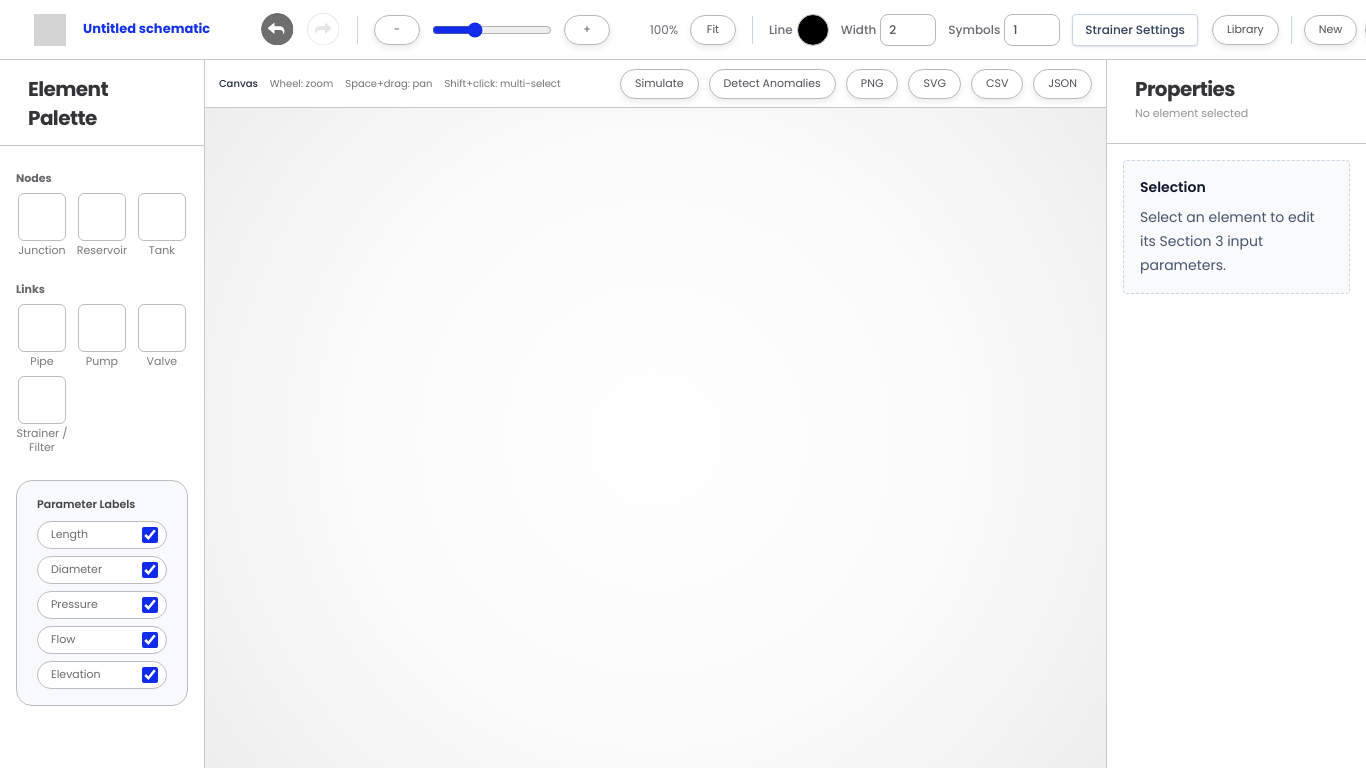
Scenario: BuilderPage › shows navigation guard when starting new with dirty state
This screenshot has width=1366, height=768.
Replace the text in the field named "schematic name" with "Renamed schematic" at (150, 30), box [78, 19, 223, 40]
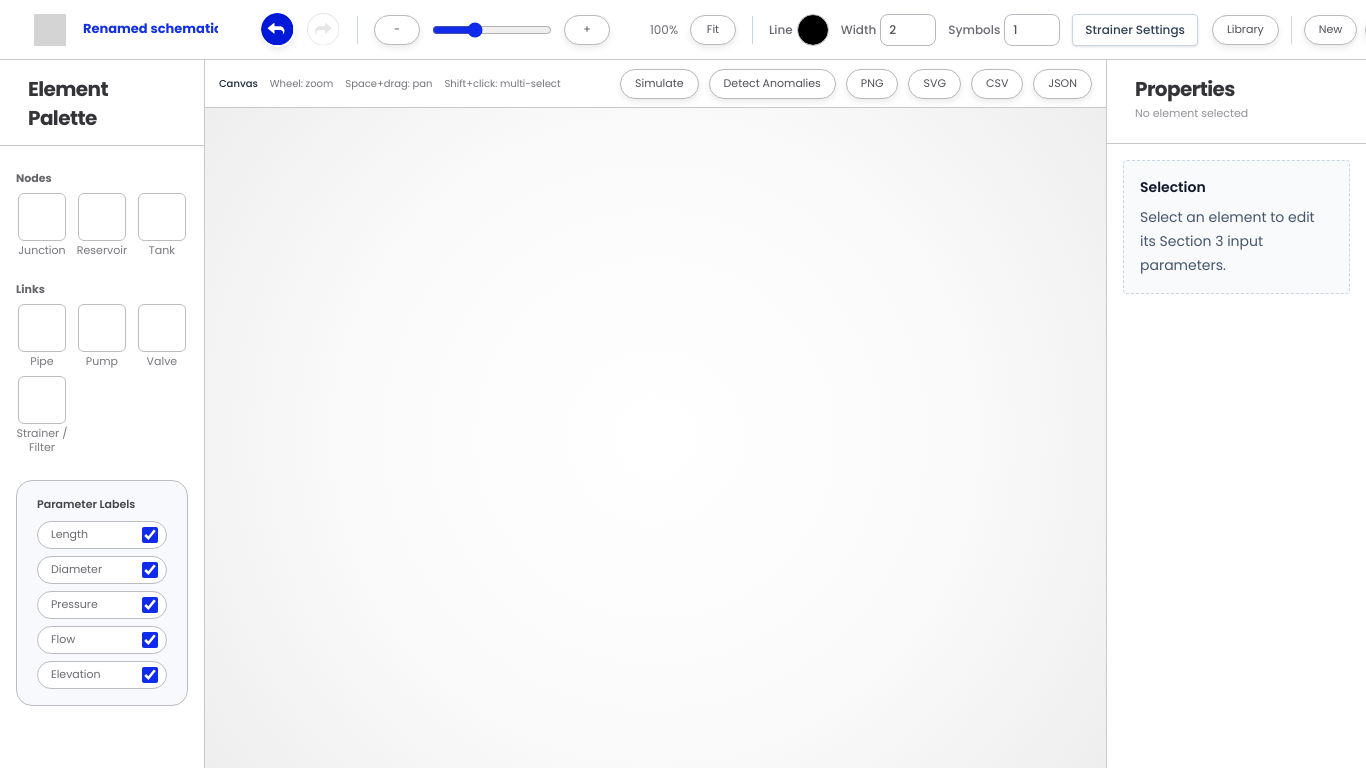
Click the button "New" at (1330, 30), box [1304, 14, 1357, 44]
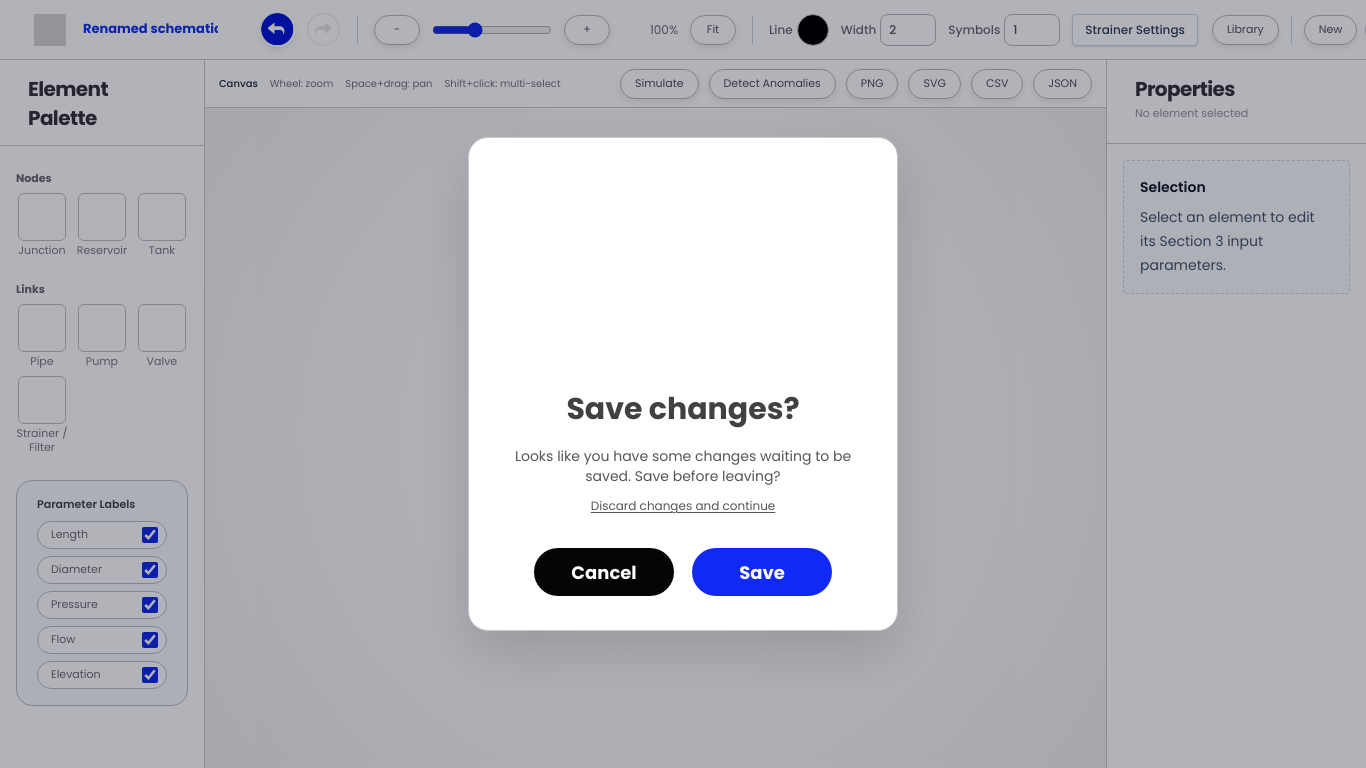
Result: the dialog is shown at [468, 137, 898, 631]
Result: the text "Save before leaving" is shown at [515, 446, 851, 486]
